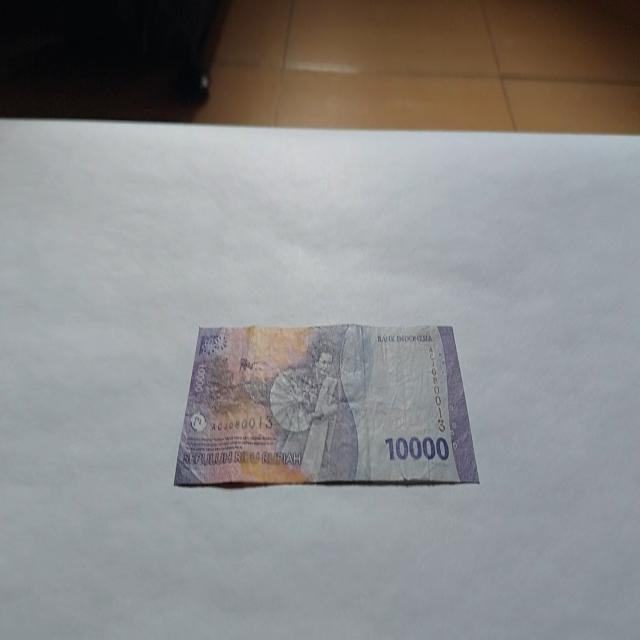sepuluh ribu rupiah: (172, 321, 480, 489)
